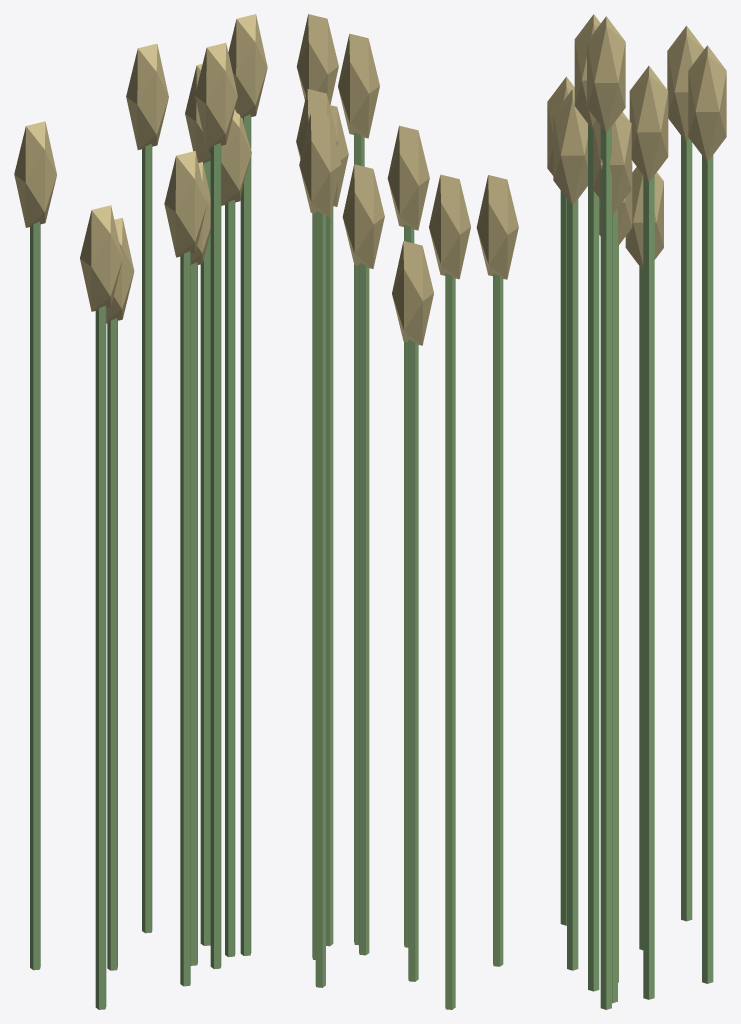
File: veg_reed_02.glb
3 renders of one model, left to right at view 1: azimuth 30°, elevation 25°; view 2: azimuth 150°, elevation 25°; view 3: azimuth 270°, elevation 25°, orthographic. The views are drawn at different scales.
Visible parts, largest first — view 1: stem_5, stem_2, stem_8, stem_6, stem_3, stem_9, stem_4, stem_1, stem_7, stem_0, head_5, head_6 (+8 smaller); view 2: stem_8, stem_9, stem_6, stem_0, stem_7, stem_3, stem_5, stem_4, head_8, head_0, head_9, head_5 (+7 smaller); view 3: stem_2, stem_5, stem_8, stem_1, stem_9, stem_4, stem_6, stem_3, head_8, head_2, head_1, stem_7 (+8 smaller).
Boxes of the visible parts, x1,y1,x2,y2 form: stem_5: [210, 143, 221, 969]; stem_2: [240, 114, 251, 955]; stem_8: [142, 144, 152, 933]; stem_6: [95, 305, 106, 1009]; stem_3: [225, 199, 235, 956]; stem_9: [30, 221, 40, 970]; stem_4: [180, 251, 190, 986]; stem_1: [200, 161, 210, 945]; stem_7: [107, 318, 117, 970]; stem_0: [190, 262, 197, 965]; head_5: [195, 42, 237, 148]; head_6: [80, 205, 122, 311]; stem_8: [315, 211, 325, 987]; stem_9: [445, 273, 455, 1009]; stem_6: [493, 273, 503, 966]; stem_0: [359, 263, 369, 955]; stem_7: [408, 339, 418, 981]; stem_3: [326, 206, 333, 946]; stem_5: [354, 132, 364, 945]; stem_4: [404, 224, 414, 947]; head_8: [299, 112, 341, 217]; head_0: [342, 164, 384, 268]; head_9: [429, 174, 470, 279]; head_5: [338, 33, 379, 138]; stem_2: [600, 126, 611, 1009]; stem_5: [588, 124, 599, 991]; stem_8: [702, 155, 713, 983]; stem_1: [643, 175, 654, 999]; stem_9: [681, 136, 692, 921]; stem_4: [567, 199, 578, 970]; stem_6: [560, 190, 566, 925]; stem_3: [612, 208, 617, 1003]; head_8: [688, 45, 726, 161]; head_2: [587, 16, 625, 132]; head_1: [629, 66, 668, 182]; stem_7: [639, 266, 643, 950].
Size of the model in its own units: 0.4991 by 2.19 by 0.3612.
